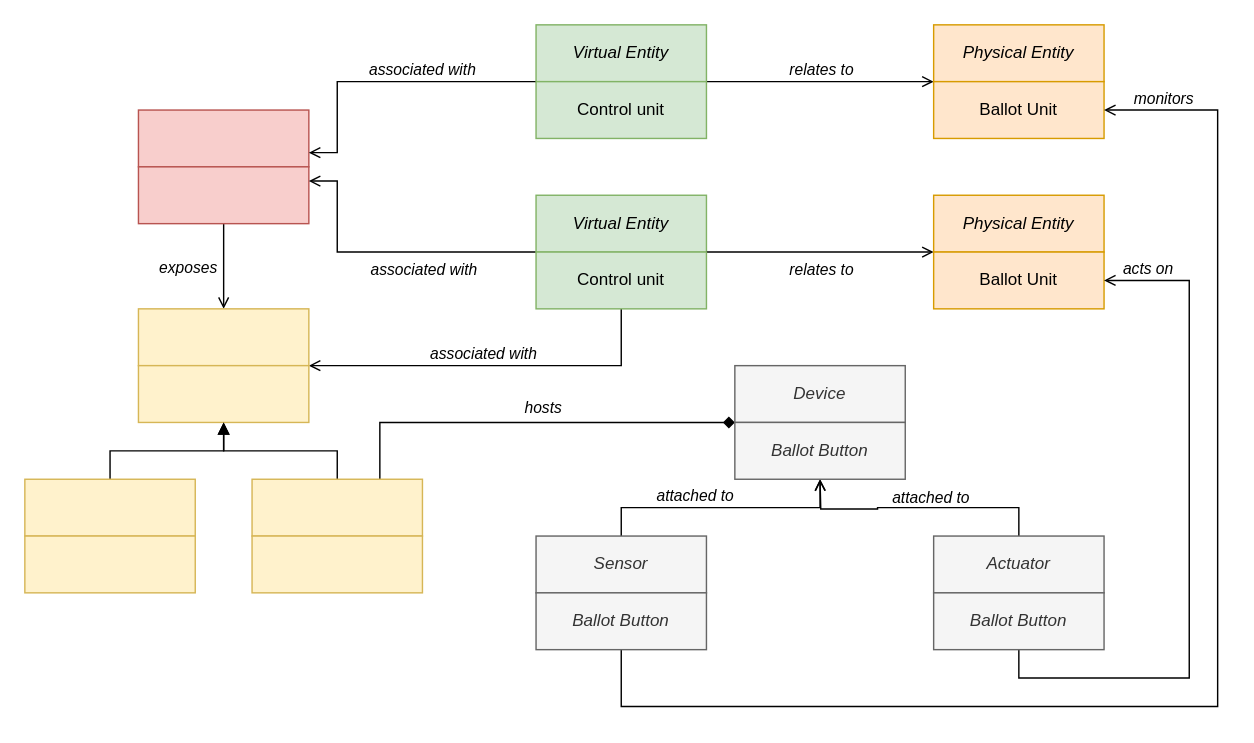
This 1254x743 diagram has some shape labels left out. Here are the shapes that lost their labels. From the top down, the centre of each, then its label:
(223,138): Service
(223,336): Resource
(109,507): Network Resource
(336,507): OnDevice Resource
